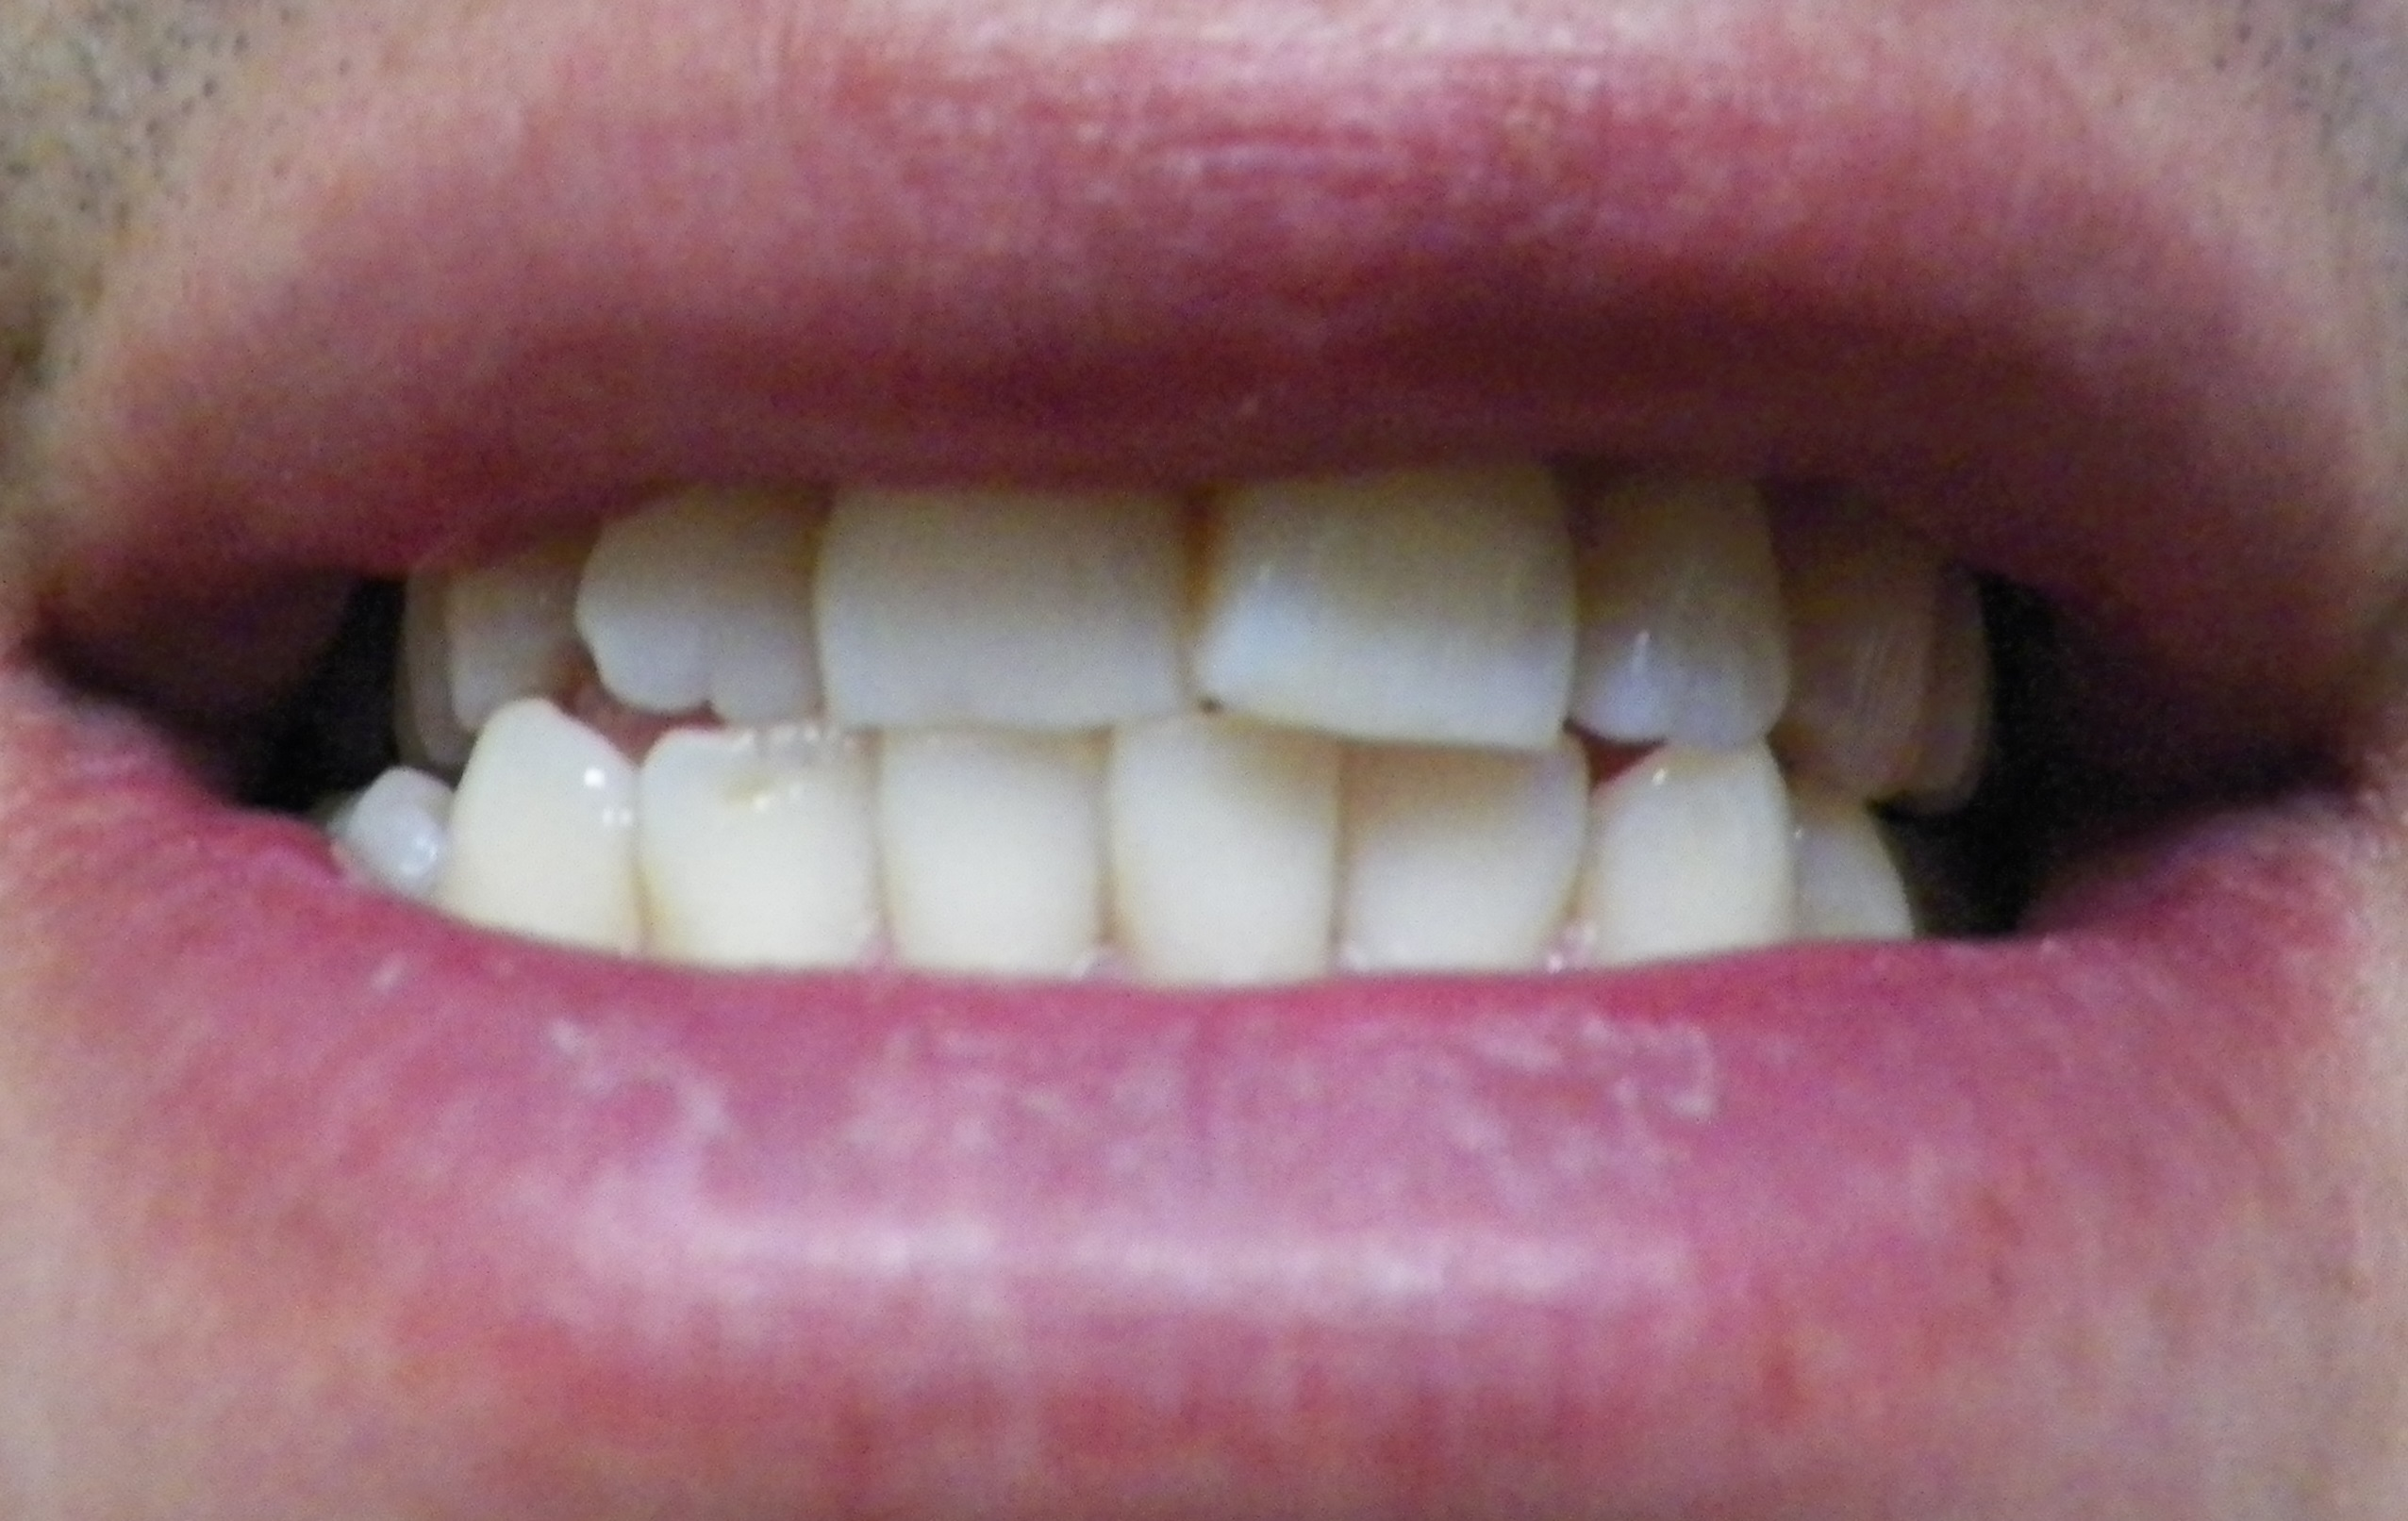boca: (342, 480, 2012, 971)
